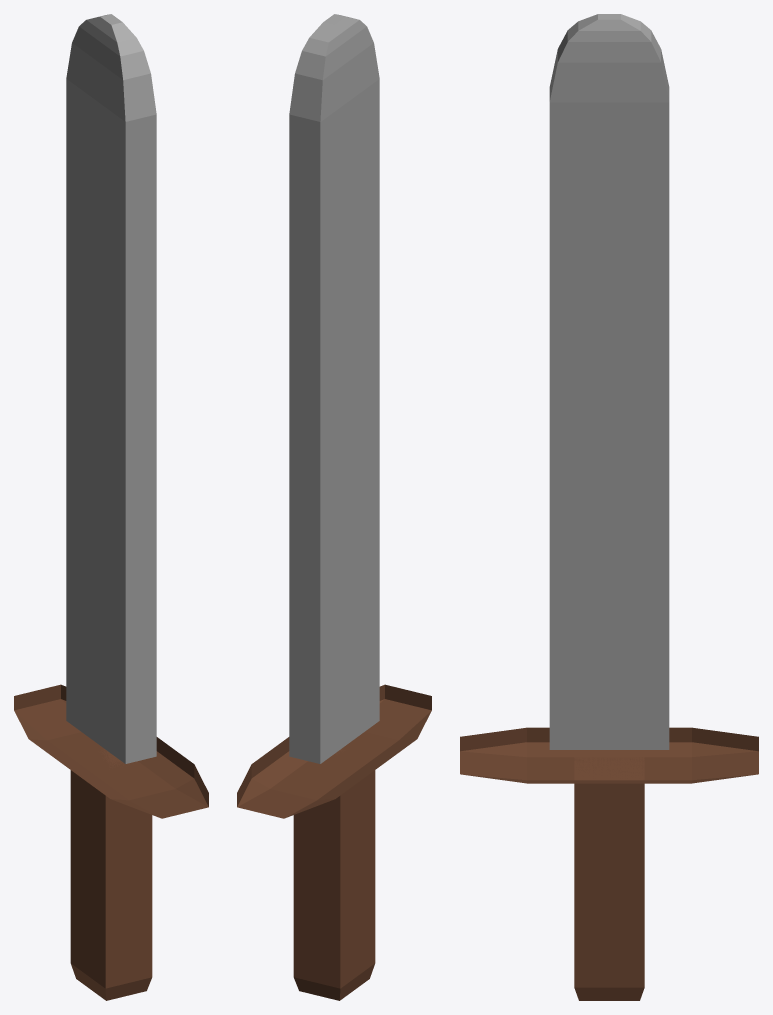
The model's file is sword1.glb.
3 renders of one model, left to right at view 1: azimuth 30°, elevation 25°; view 2: azimuth 150°, elevation 25°; view 3: azimuth 270°, elevation 25°, orthographic.
Parts seen in each view (by area): view 1: Cube; view 2: Cube; view 3: Cube.
Part boxes in pixels (bbox=[...]): Cube: bbox=[14, 14, 208, 1000]; Cube: bbox=[237, 14, 431, 1000]; Cube: bbox=[460, 14, 758, 1000].
Bounding box in the file's own units: 0.1075 × 1.18 × 0.3285.
